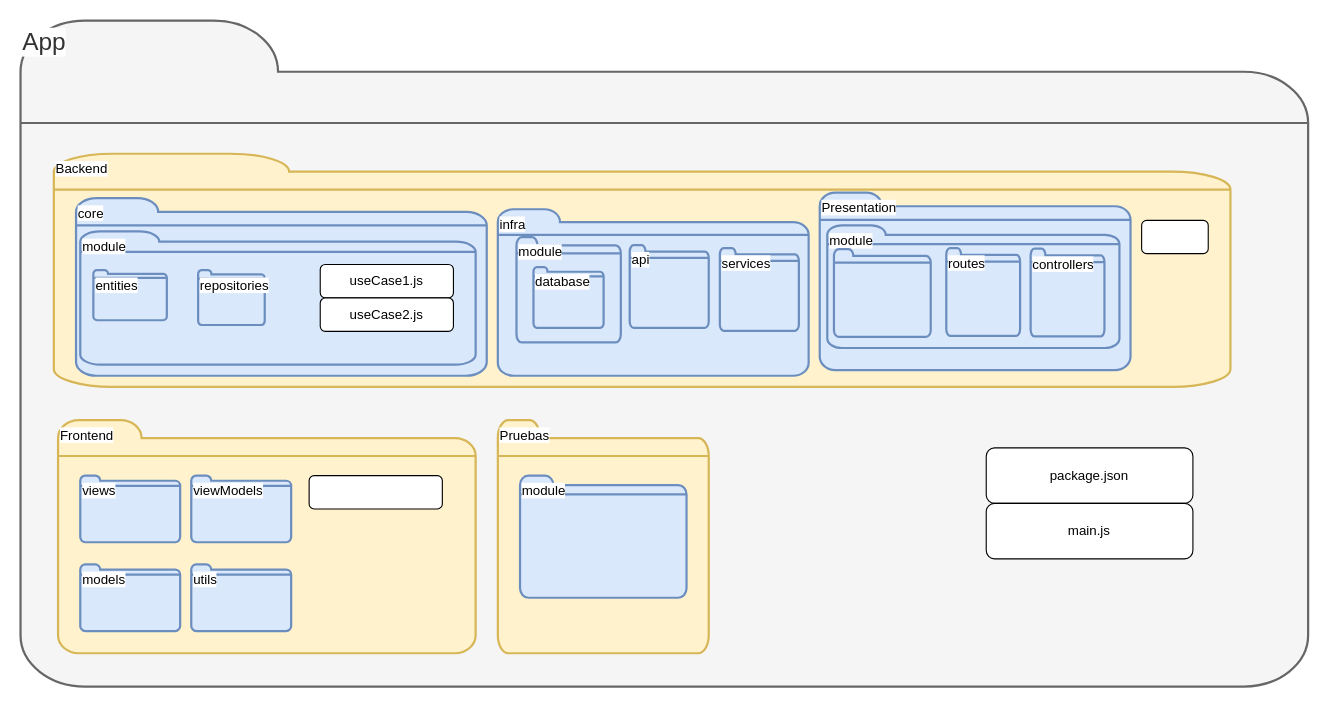
Some shapes in this 1328 by 706 pixel diagram are drawn without their labels. The shapes that lost their labels are listed below. From the top down, each one's centre as x and y in pixels, then its label:
(1174,236): app.js
(881,292): routesIndexes
(375,492): index.js
